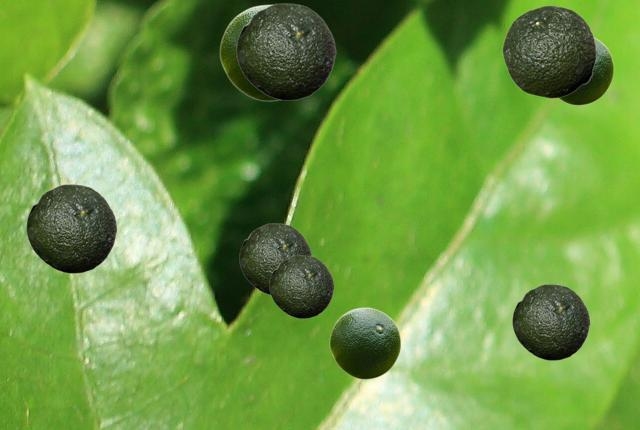calamansi: (236, 3, 335, 99), (502, 5, 595, 97), (26, 184, 116, 272), (219, 4, 282, 100), (512, 284, 589, 359), (239, 223, 311, 294), (329, 307, 400, 378), (269, 255, 333, 317), (557, 37, 613, 104)
